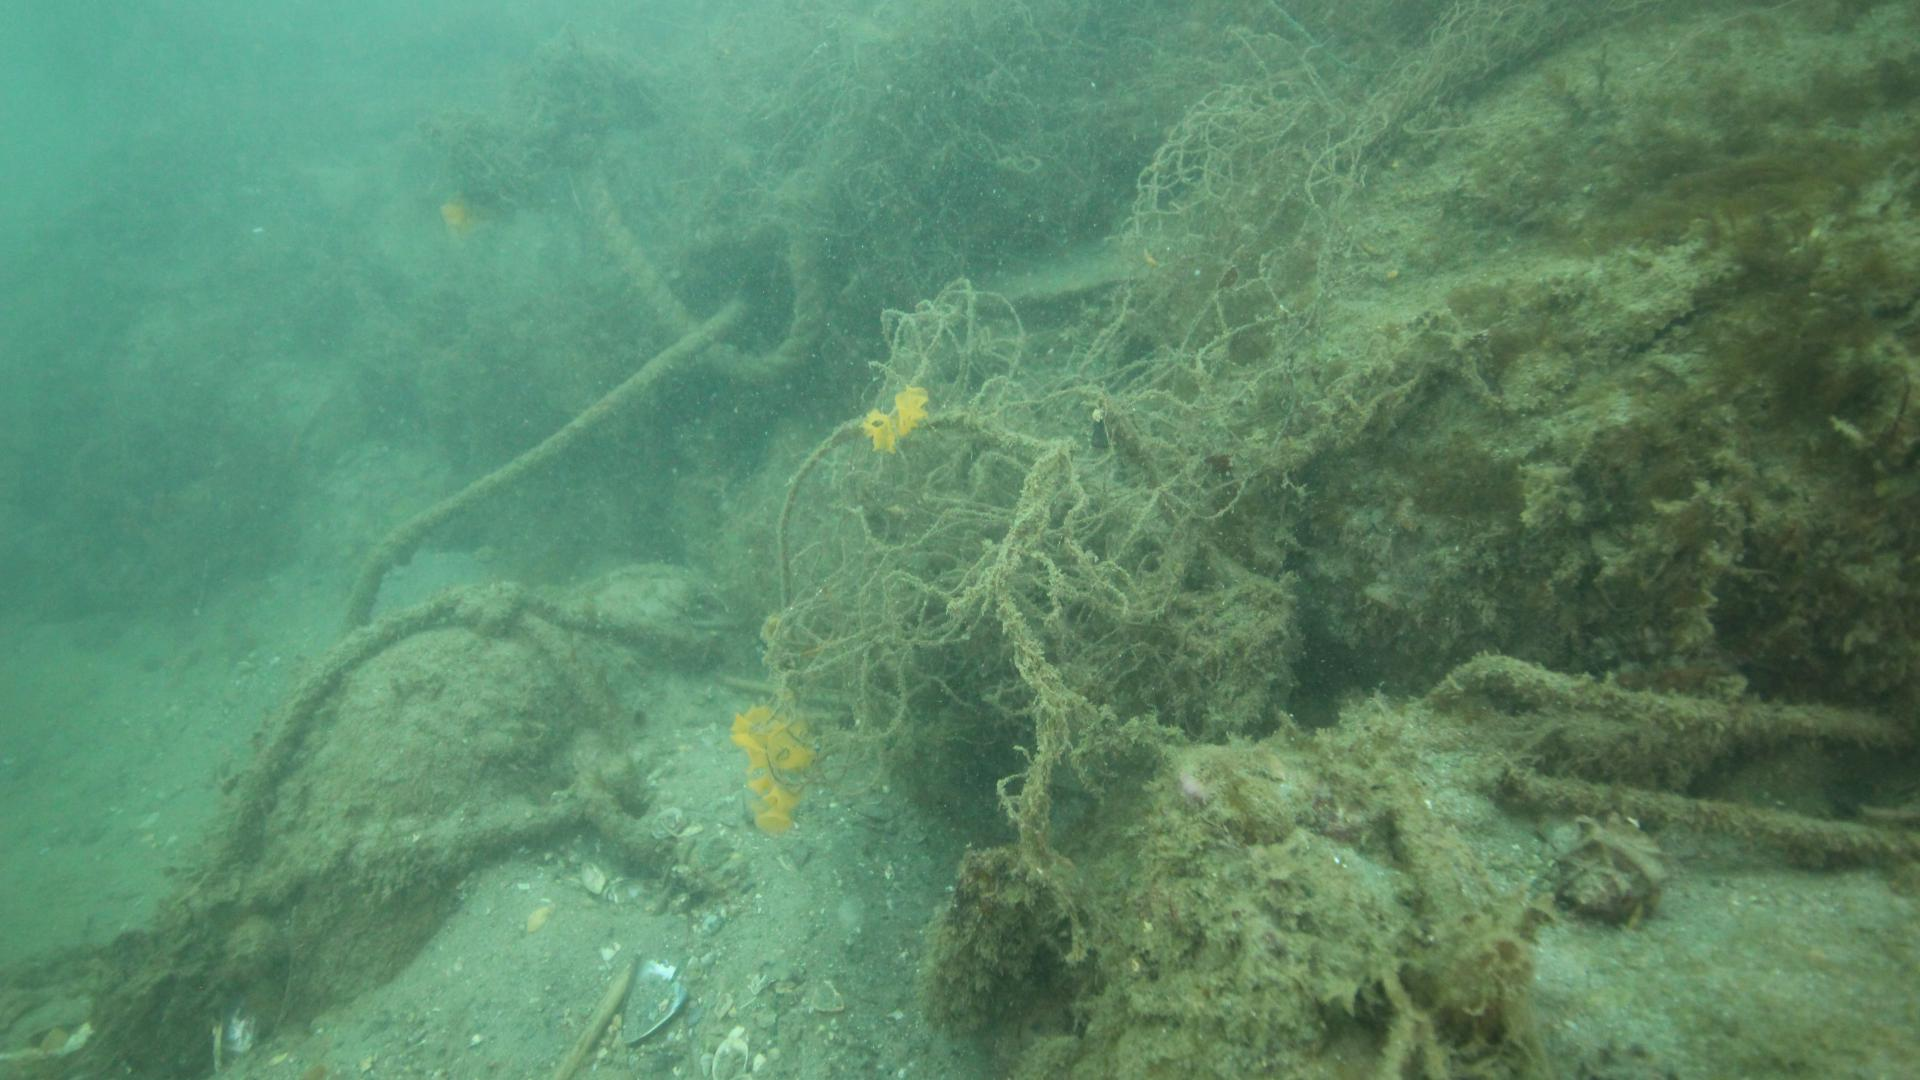bundle of ropes: (215, 584, 669, 869)
fish net: (1120, 0, 1640, 247)
rope: (338, 293, 756, 633), (572, 167, 822, 378)
